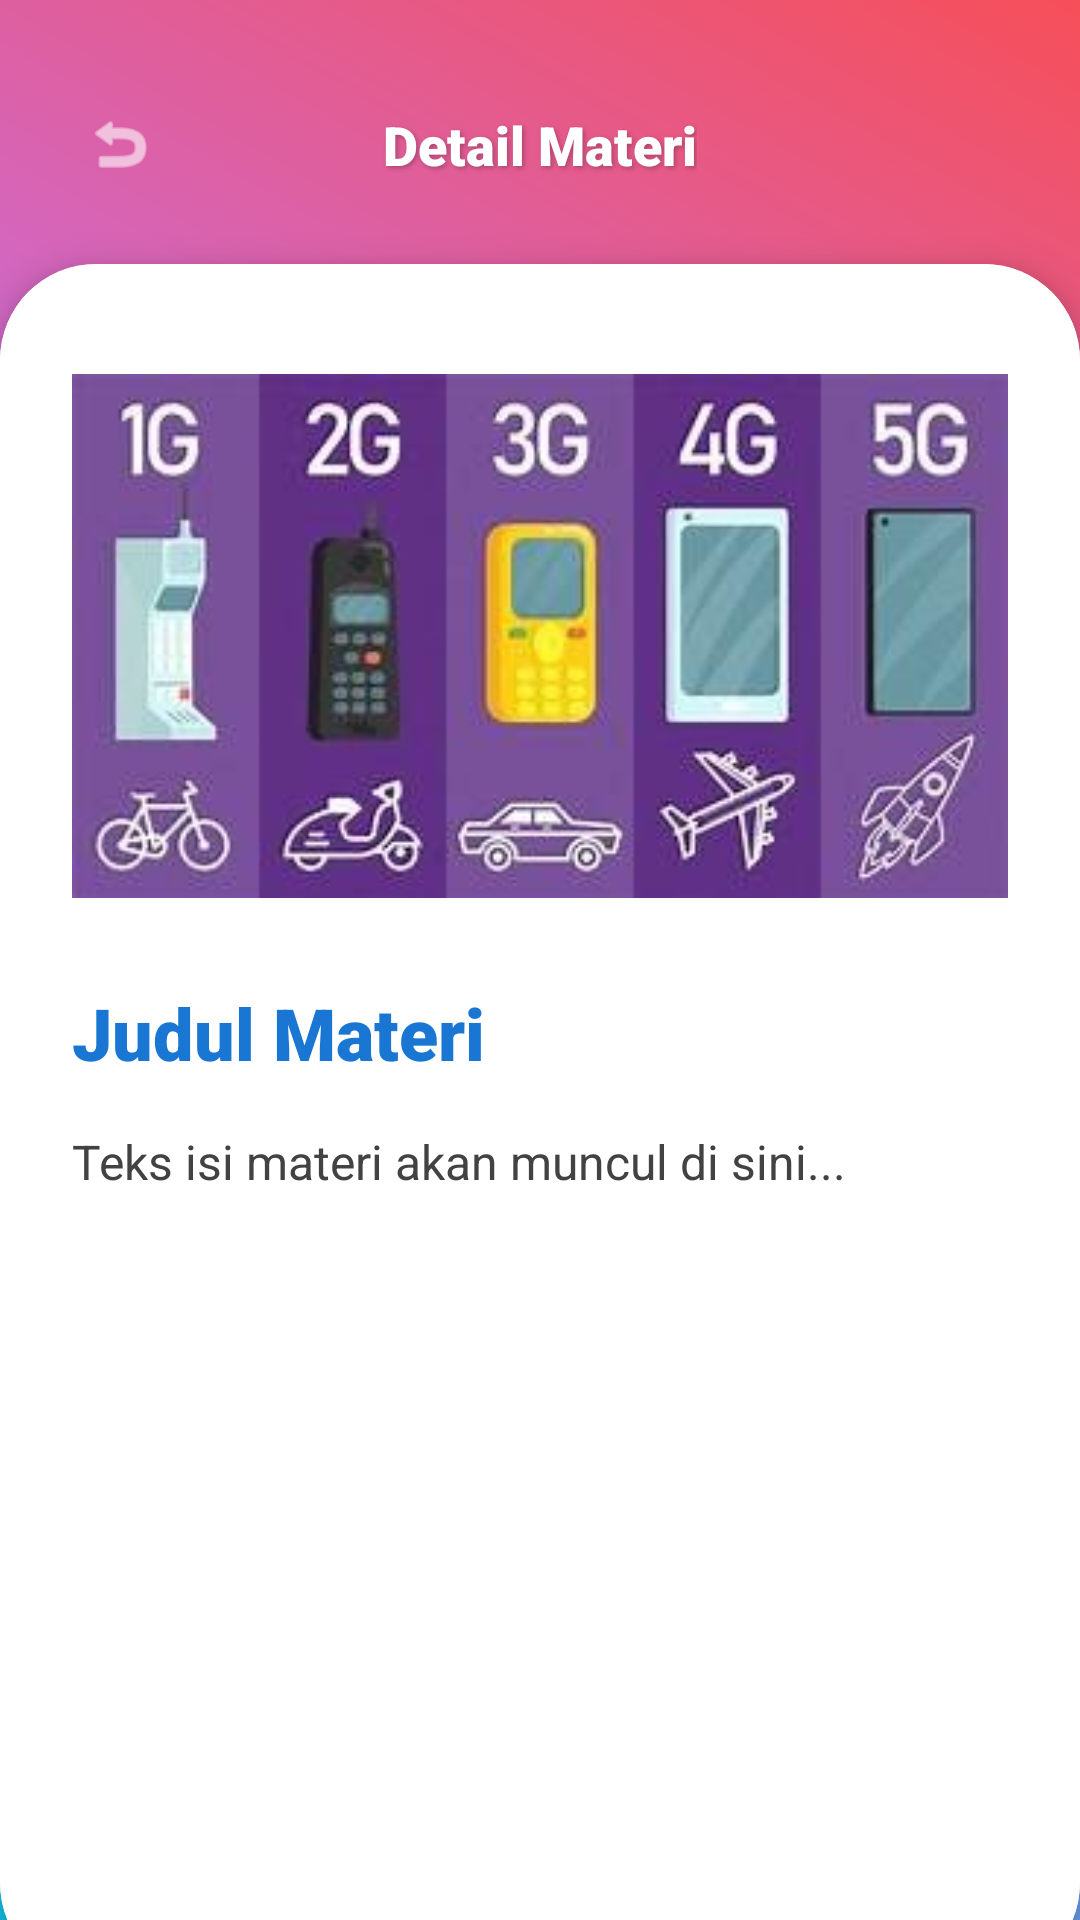

Named icons in this screenshot (1080w x 1920h) and their bounding boxes, (x1, y1, x2, y2):
revert: (95, 121, 147, 168)
